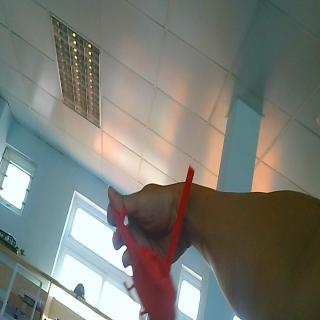Helicopter: (113, 164, 196, 320)
